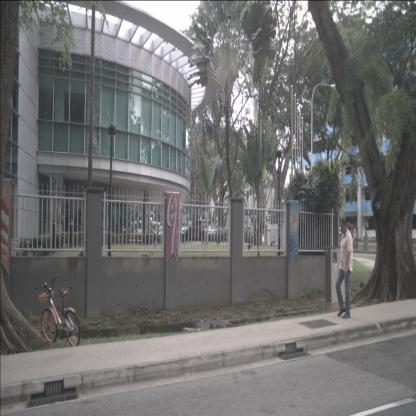human-pedestrian-adult: (335, 218, 353, 319)
vehicle-bicycle: (38, 273, 81, 349)
vehicle-car: (184, 219, 218, 242)
